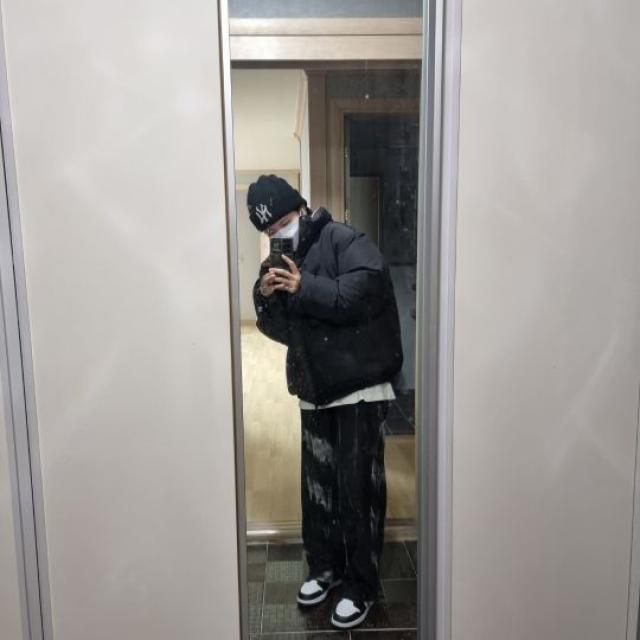denimpants: (300, 381, 390, 605)
padding: (250, 200, 403, 400)
